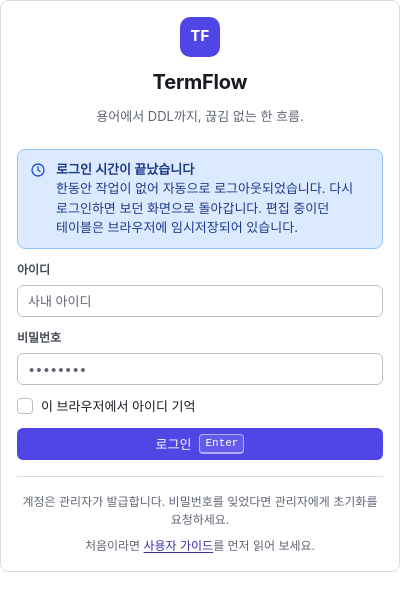
LoginPage › 401: 같은 안내 문구 + 잠금 정책, 423: 잠금 알림(서버 남은 시간 문구)
The width and height of the screenshot is (417, 589).
Type "kim" into the field named "loginId" at (200, 300), box [17, 284, 383, 316]
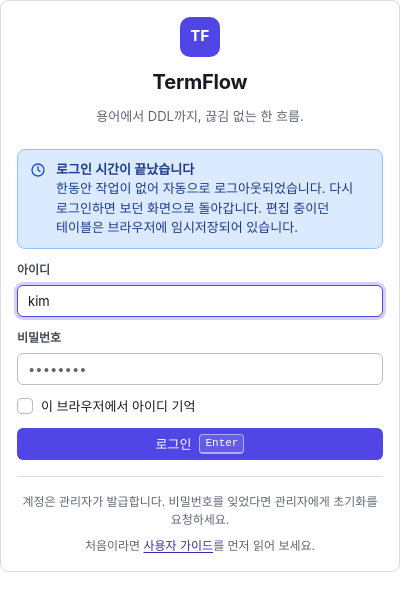
Type "bad" into the password field named "password" at (200, 368), box [17, 352, 383, 384]
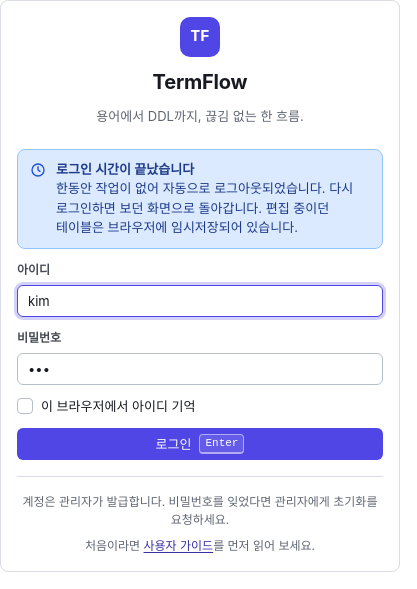
Submit the form, box [17, 148, 383, 460]
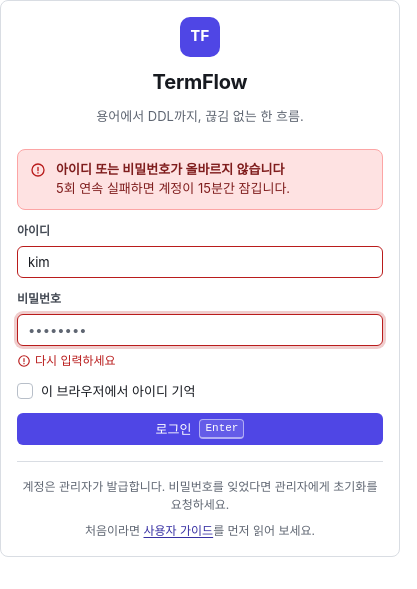
Check: the message "아이디 또는 비밀번호가 올바르지 않습니다 5회 연속 실패하면 계정이 15분간 잠깁니다." is shown, box [17, 148, 383, 210]
Check: the password field named "password" is empty
Type "bad2" into the password field named "password" at (200, 330), box [17, 314, 383, 346]
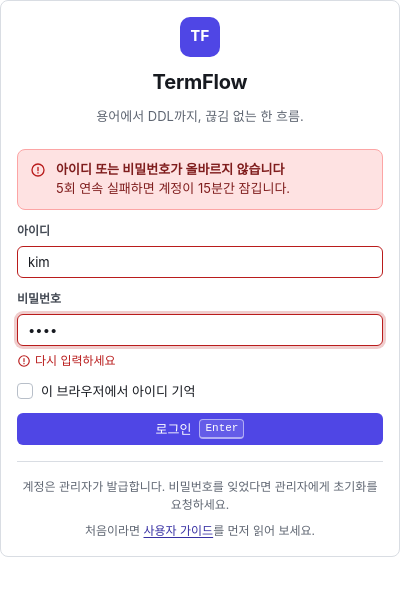
Submit the form, box [17, 148, 383, 445]
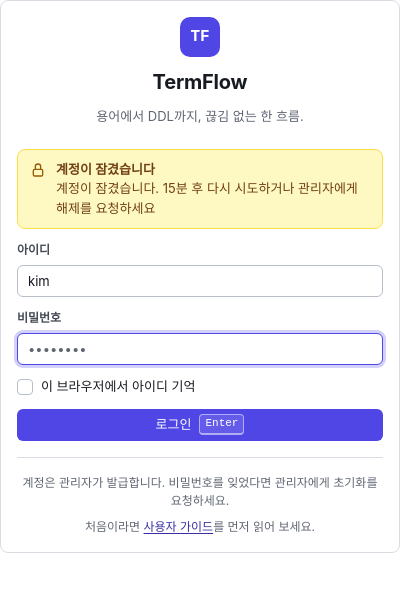
Check: the message with class "alert-warning" shows "15분 후 다시 시도", box [56, 180, 358, 216]
